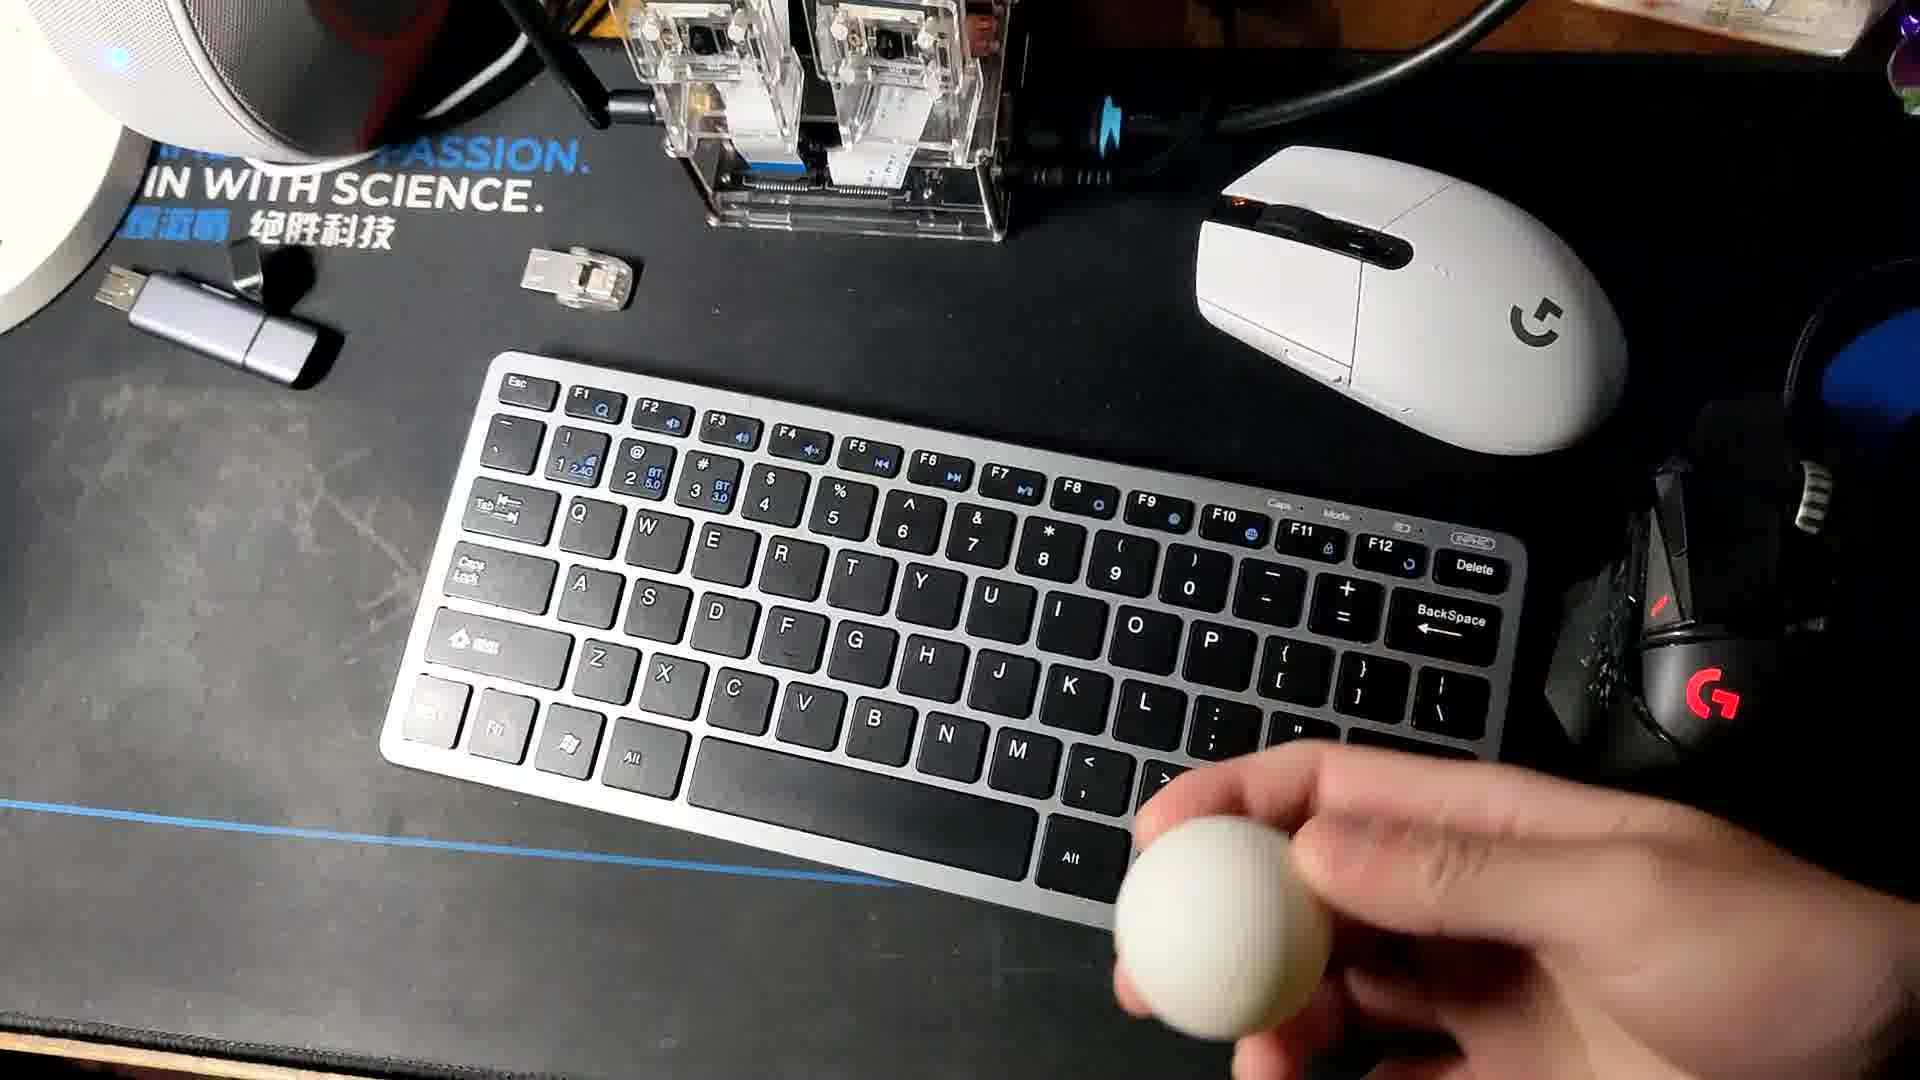Ball: (1118, 818, 1331, 1033)
